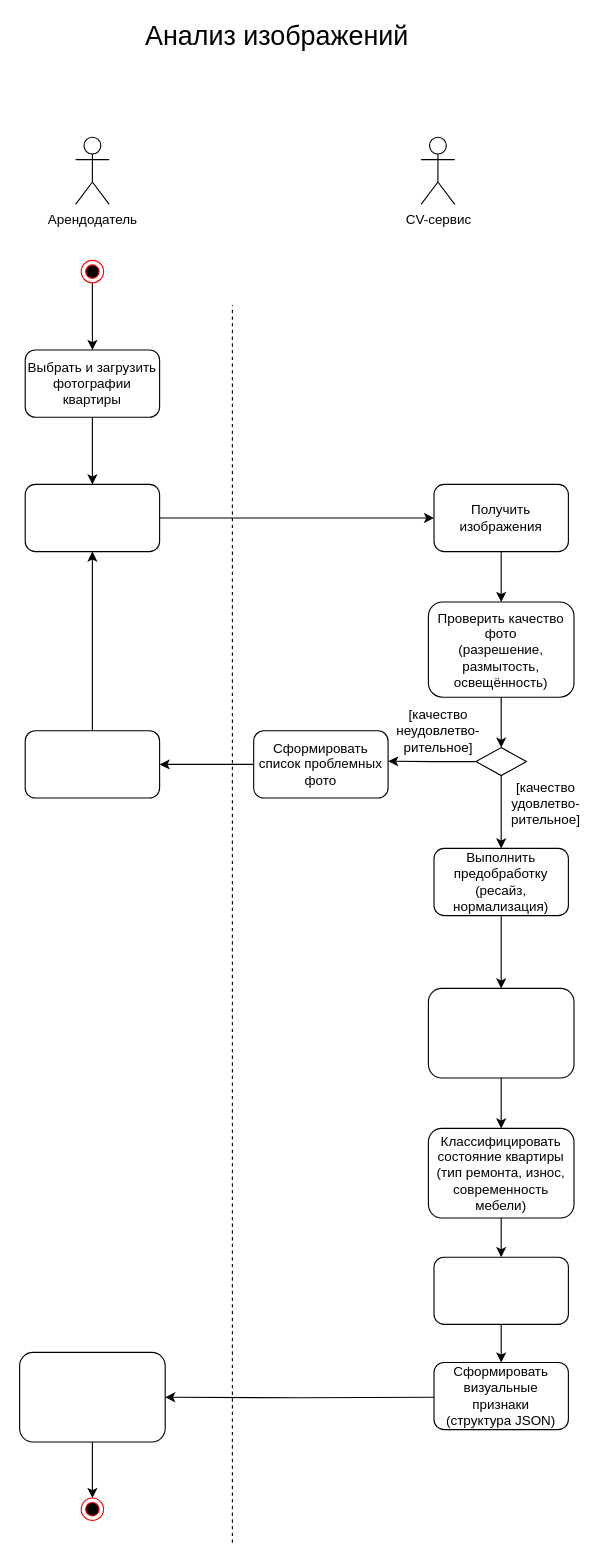
This 600x1564 diagram has some shape labels left out. Each missing label, with the centre of its shape:
"Детектировать помещения и объекты (кухня, спальня, мебель, техника)" goes at point (500, 1032).
"Отправить фото на анализ" goes at point (92, 517).
"Перезагрузить фото" goes at point (92, 764).
"Получить визуальные признаки и рекомендации по улучшению фотографий" goes at point (91, 1396).
"Рассчитать Photo Score (общая оценка набора фото)" goes at point (500, 1290).
